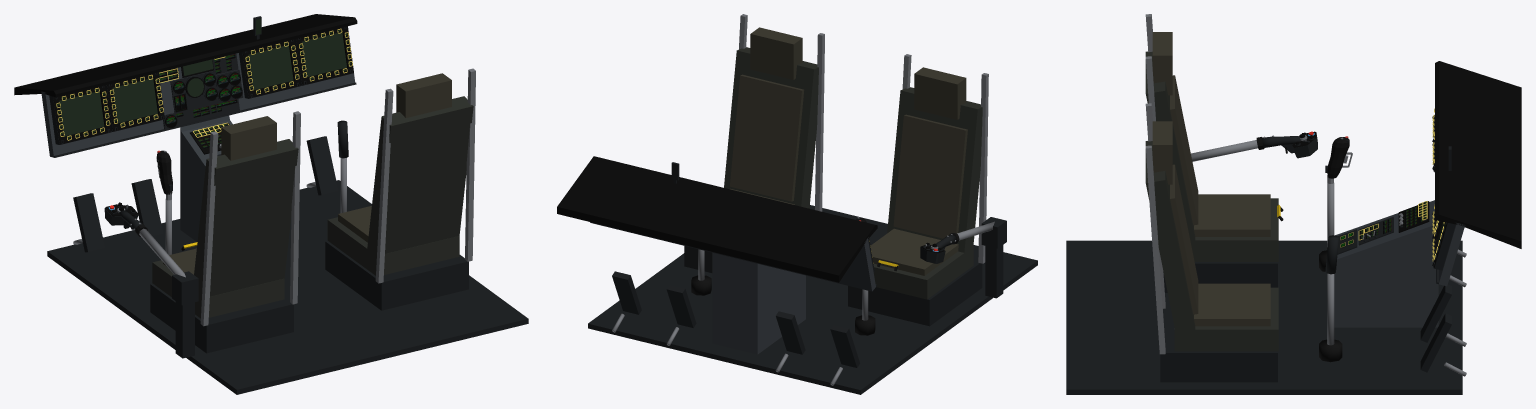
Rendered from cockpit_oh58_cpg.glb.
3 views of the same model, side by side, from view 1: azimuth 30°, elevation 25°; view 2: azimuth 150°, elevation 25°; view 3: azimuth 270°, elevation 25° (orthographic). The views are drawn at different scales.
Parts seen in each view (by area): view 1: dark.162, seat_95.001, seat_95, black, dark.168, dark.167, panel_grey, seat_93.001, panel_grey.001, seat_93, cushion_97, cushion_97.001 (+21 smaller); view 2: black, dark.162, cushion_96.001, cushion_96, panel_grey.002, seat_95.001, seat_95, dark.167, panel_grey.001, seat_93, cushion_97.001, cushion_97 (+11 smaller); view 3: dark.162, black, panel_grey.001, dark.168, seat_95.001, cushion_94.001, cushion_94, seat_93.001, seat_93, dark.167, cushion_96.001, cushion_96 (+15 smaller).
Part boxes in pixels (x1,y1,x2,y2): dark.162: [47, 180, 528, 394]; seat_95.001: [367, 96, 473, 259]; seat_95: [194, 139, 298, 298]; black: [14, 14, 357, 97]; dark.168: [325, 241, 468, 310]; dark.167: [150, 283, 293, 353]; panel_grey: [41, 53, 355, 157]; seat_93.001: [327, 217, 459, 275]; panel_grey.001: [181, 120, 232, 241]; seat_93: [152, 260, 284, 318]; cushion_97: [221, 116, 276, 160]; cushion_97.001: [396, 73, 451, 117]; black: [557, 156, 877, 282]; dark.162: [588, 205, 1037, 394]; cushion_96.001: [730, 74, 804, 201]; cushion_96: [893, 114, 967, 238]; panel_grey.002: [712, 252, 758, 354]; seat_95.001: [724, 47, 818, 208]; seat_95: [887, 87, 982, 254]; dark.167: [848, 259, 982, 326]; panel_grey.001: [759, 264, 805, 353]; seat_93: [873, 246, 973, 299]; cushion_97.001: [750, 27, 802, 79]; cushion_97: [914, 67, 966, 119]; dark.162: [1066, 240, 1462, 394]; black: [1435, 61, 1521, 248]; panel_grey.001: [1334, 200, 1436, 327]; dark.168: [1160, 308, 1277, 382]; seat_95.001: [1145, 141, 1195, 334]; cushion_94.001: [1194, 283, 1270, 326]; cushion_94: [1194, 194, 1270, 236]; seat_93.001: [1174, 287, 1278, 351]; seat_93: [1190, 198, 1278, 261]; dark.167: [1163, 262, 1277, 292]; cushion_96.001: [1170, 164, 1198, 314]; cushion_96: [1170, 75, 1198, 225].
Size of the model in its own units: 1.27 by 0.9004 by 1.55.
29 materials, 6 textured.
